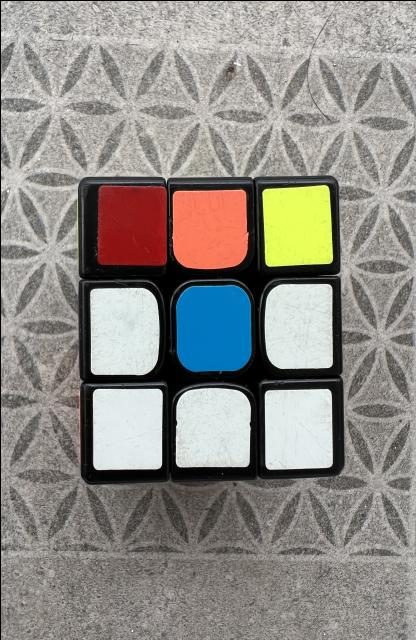Blue: (176, 284, 250, 371)
Orange: (171, 189, 248, 269)
Red: (96, 185, 166, 265)
White: (89, 286, 158, 374), (263, 282, 332, 368), (174, 388, 250, 466), (92, 388, 161, 469), (263, 389, 332, 469)
Yellow: (261, 184, 332, 266)
